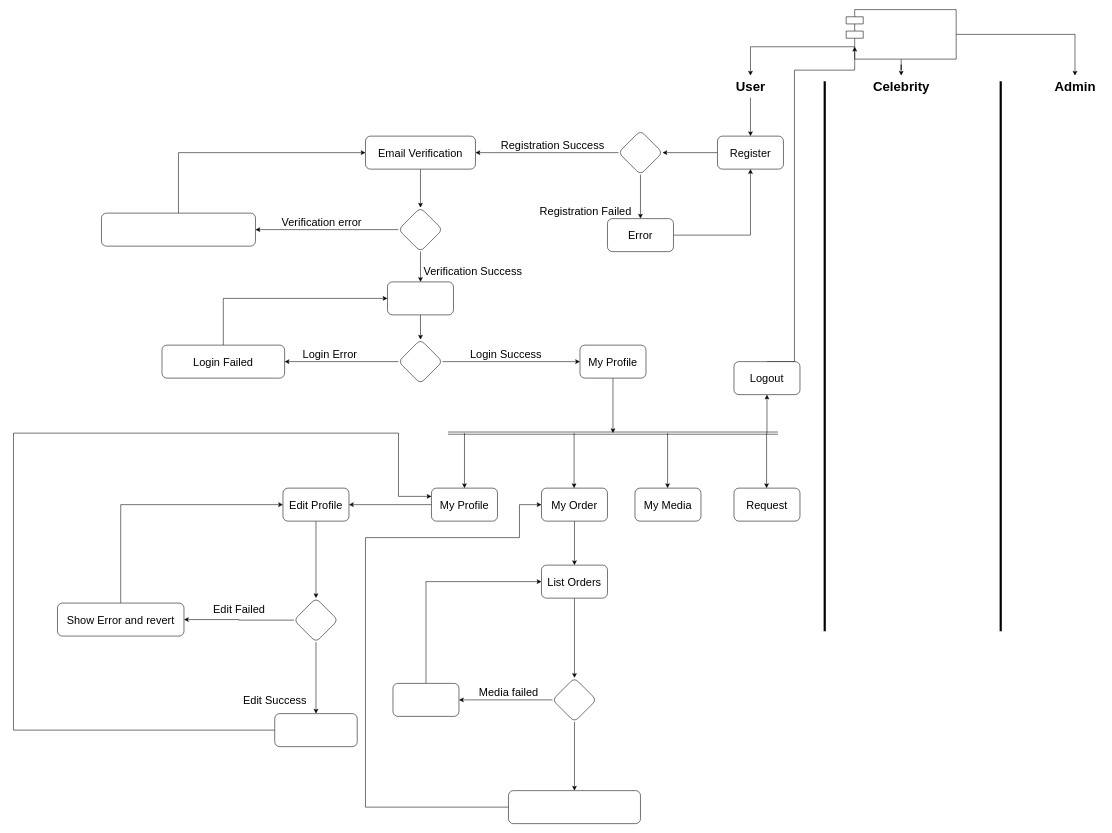
Image size: 1112x833. Some labels were removed from this diagram. Each missing label, with the centre of its shape:
Clipeo: [901,34]
Login: [420,298]
Resend Verification link: [178,229]
Show Error: [425,699]
Show Success: [315,730]
View/Download Media: [574,807]
